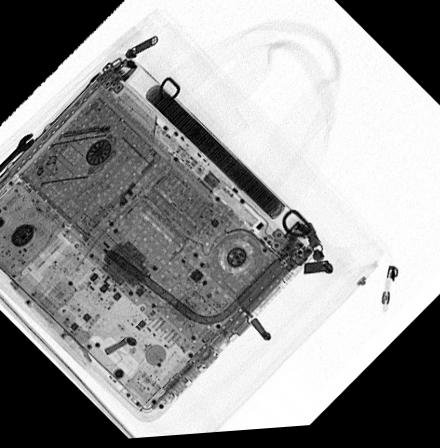Wrench: (0, 131, 39, 173)
